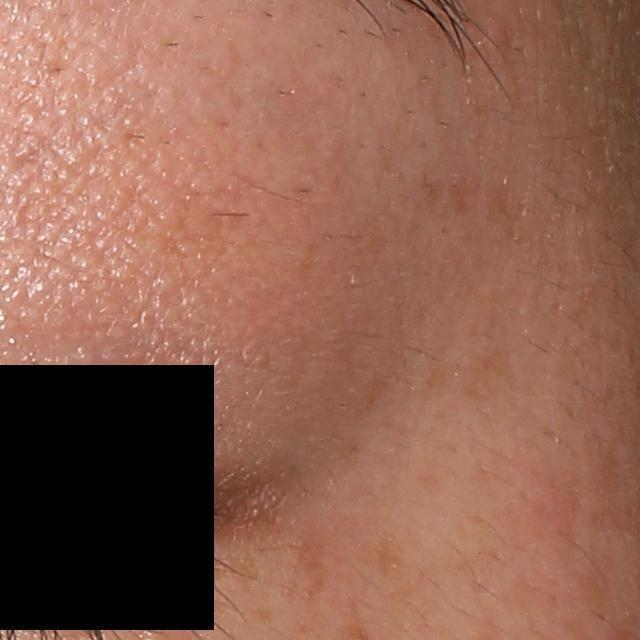melasma: (483, 176, 530, 248), (462, 342, 509, 403), (374, 531, 412, 583), (443, 171, 477, 223)
